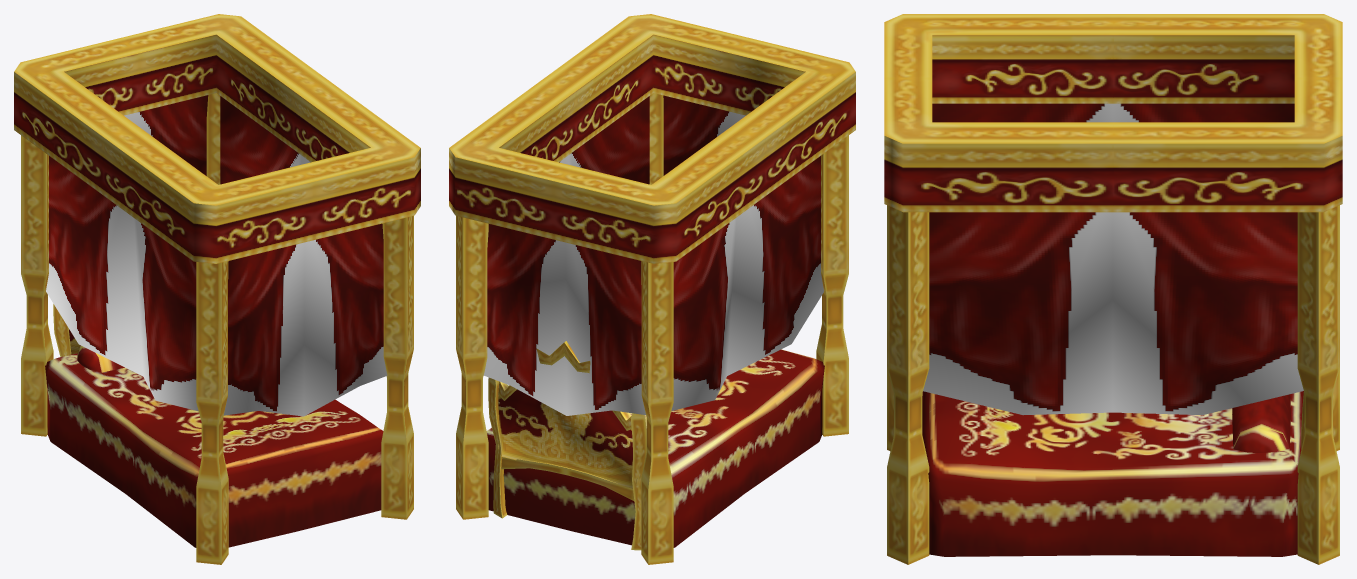
Rendered from EmperorCanopyBed_HD.fbx.
3 renders of one model, left to right at view 1: azimuth 30°, elevation 25°; view 2: azimuth 150°, elevation 25°; view 3: azimuth 270°, elevation 25°, orthographic. The views are drawn at different scales.
Parts seen in each view (by area): view 1: EmperorCanopyBed; view 2: EmperorCanopyBed; view 3: EmperorCanopyBed.
Part boxes in pixels (bbox=[...]): EmperorCanopyBed: bbox=[14, 14, 420, 564]; EmperorCanopyBed: bbox=[449, 14, 855, 564]; EmperorCanopyBed: bbox=[884, 14, 1342, 564].
Size of the model in its own units: 1.93 by 2.94 by 2.88.
